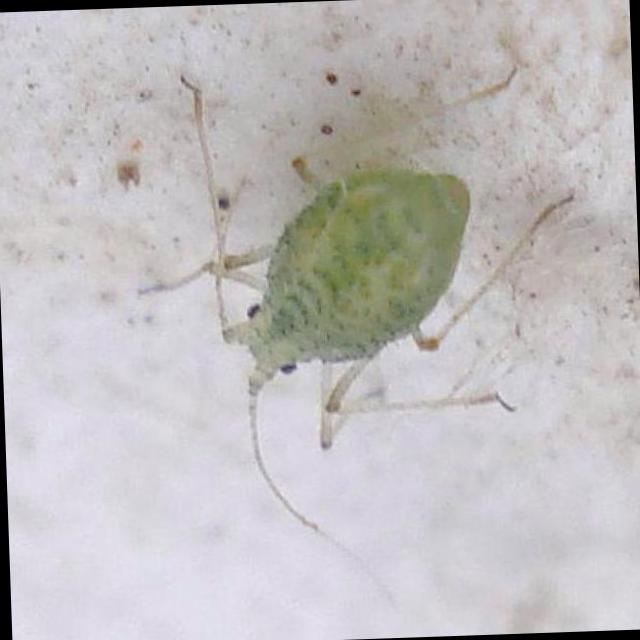aphid: (137, 68, 573, 472)
